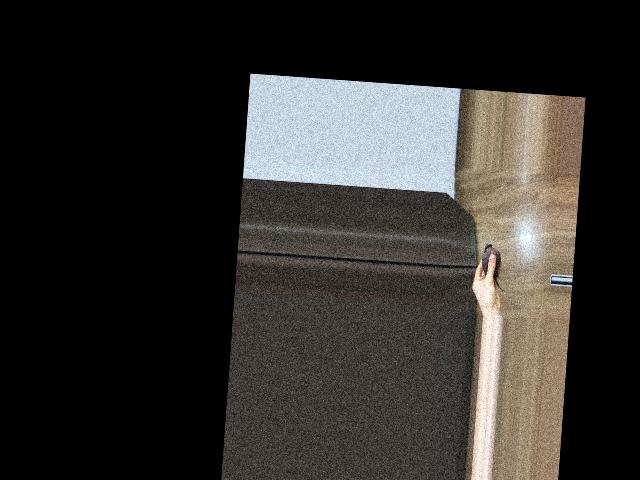beet: (480, 242, 508, 290)
